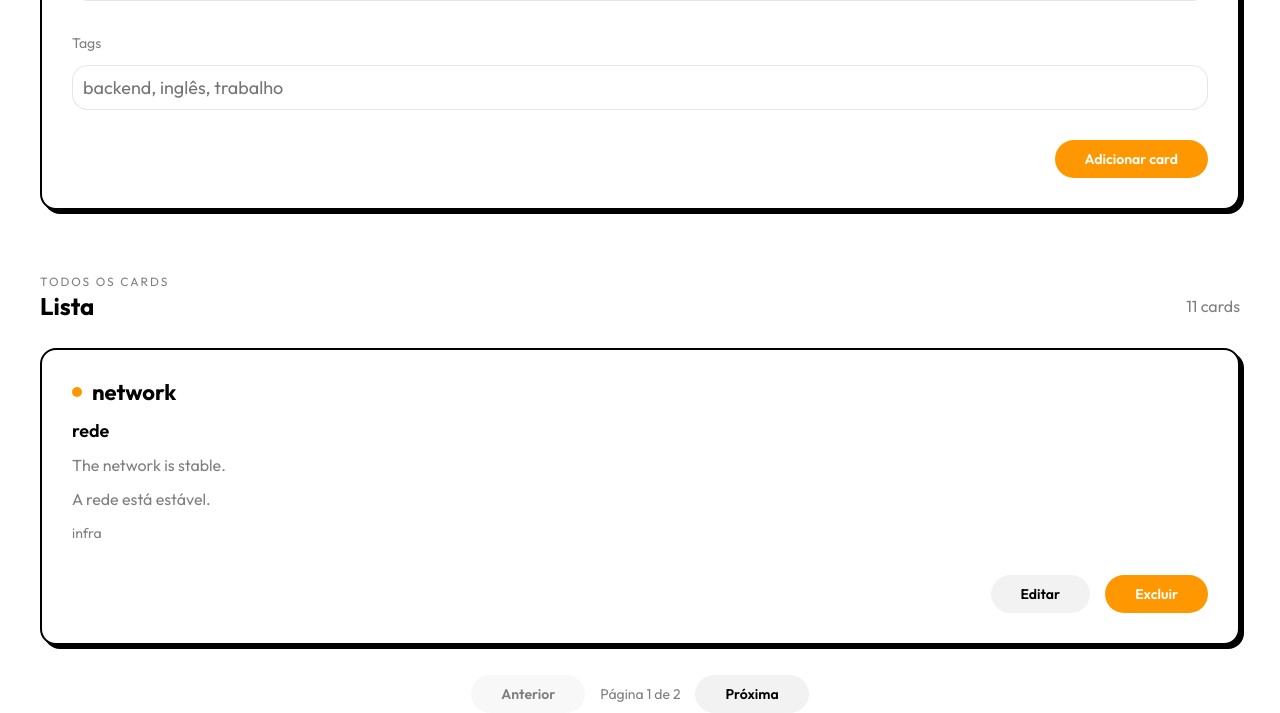
Scenario: cards do deck › navega entre páginas de 10 cards
(page scrolled)
Check: the text "11 cards" is shown, box [1186, 294, 1240, 318]
Check: the text "Página 1 de 2" is shown, box [600, 682, 680, 706]
Click the button "Próxima" at (752, 694), box [696, 675, 809, 712]
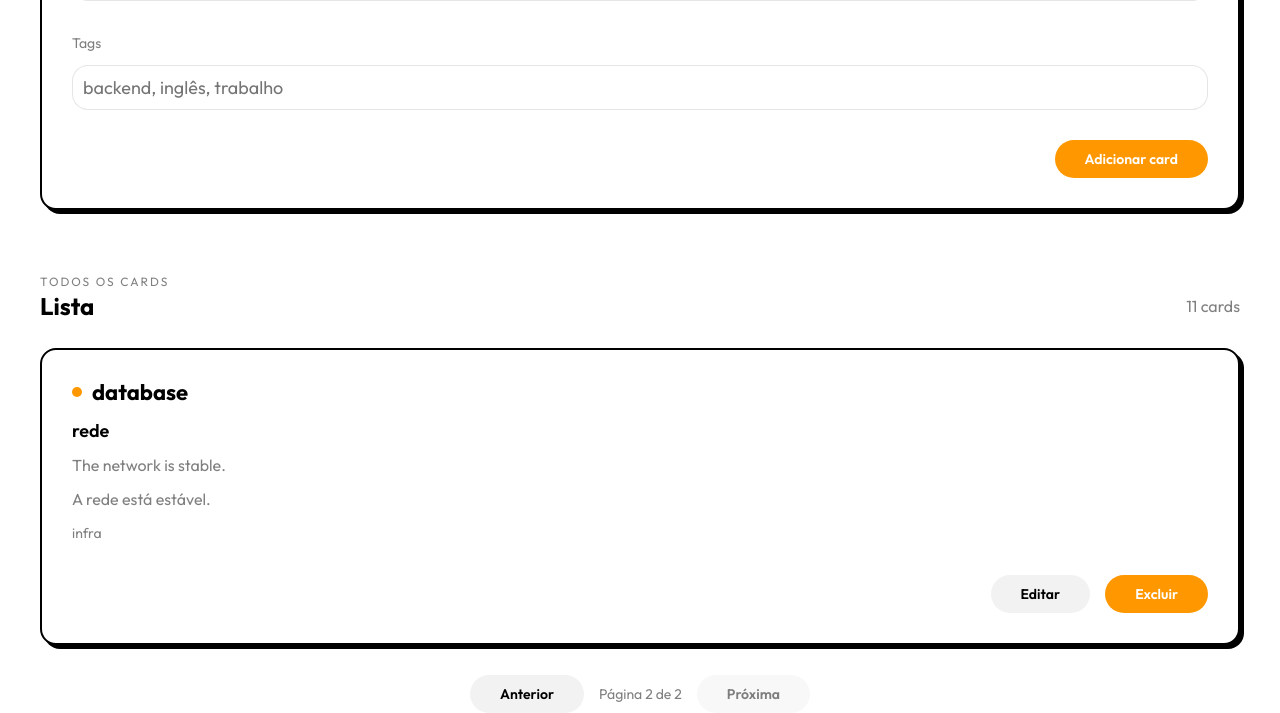
Check: the heading "database" is shown, box [92, 378, 188, 406]
Check: the text "Página 2 de 2" is shown, box [599, 682, 682, 706]
